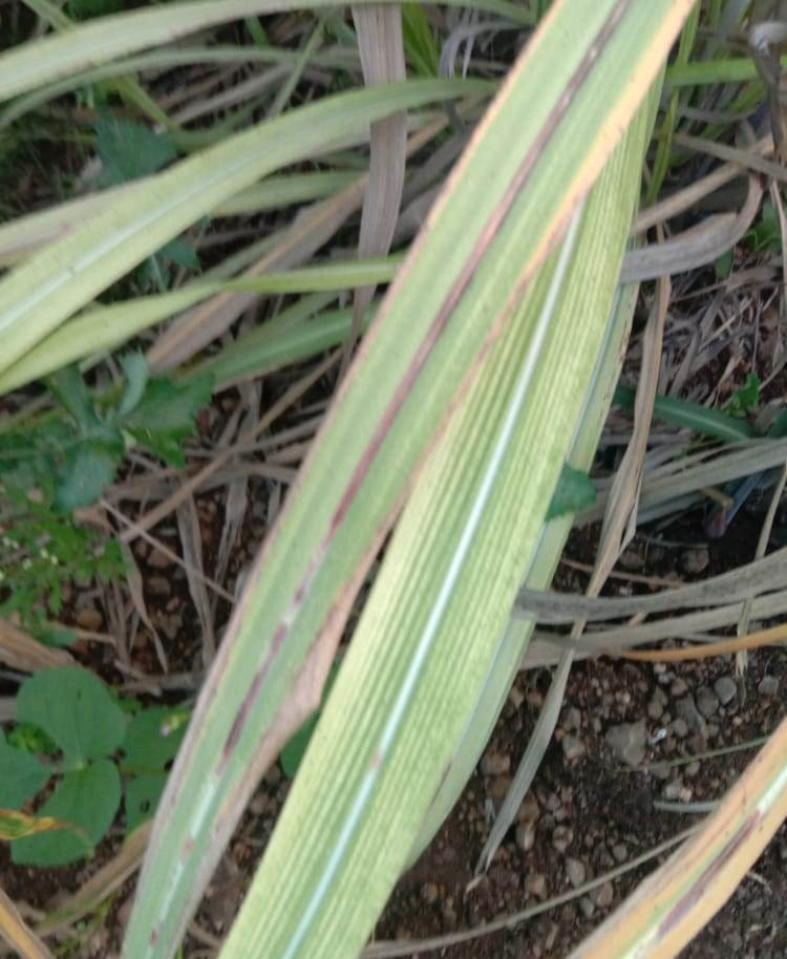RedRot: (210, 0, 635, 784), (658, 808, 763, 943), (149, 838, 197, 949)
